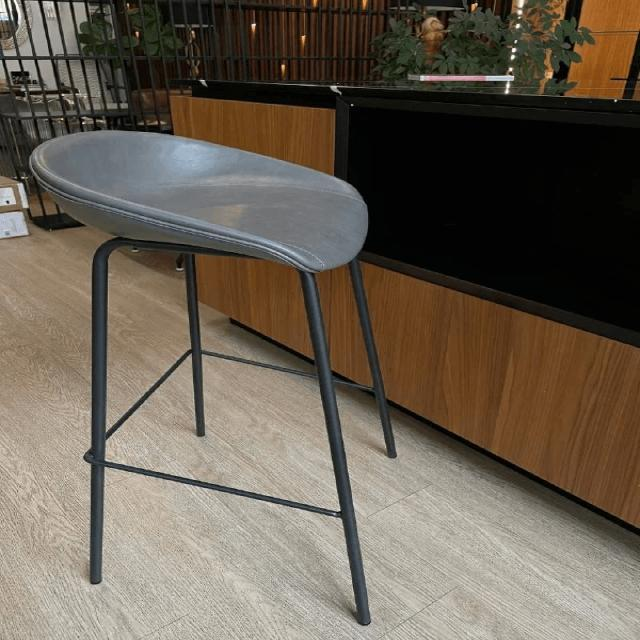chair: (24, 117, 428, 634), (22, 116, 400, 307)
